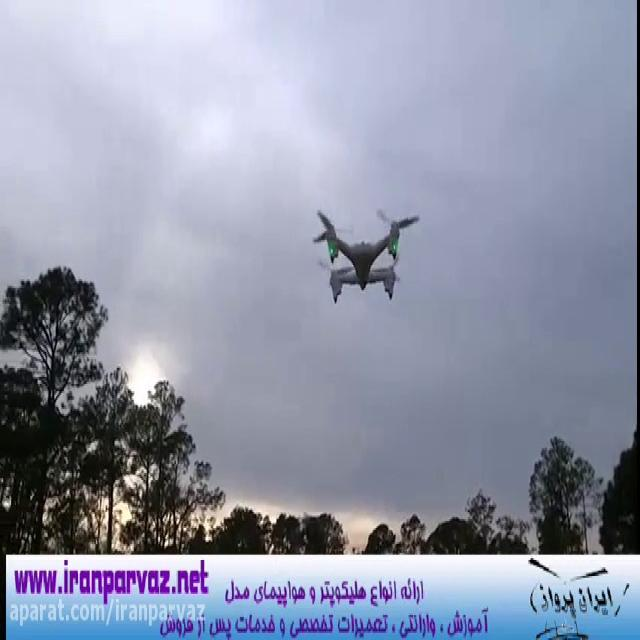drone: (305, 199, 426, 313)
